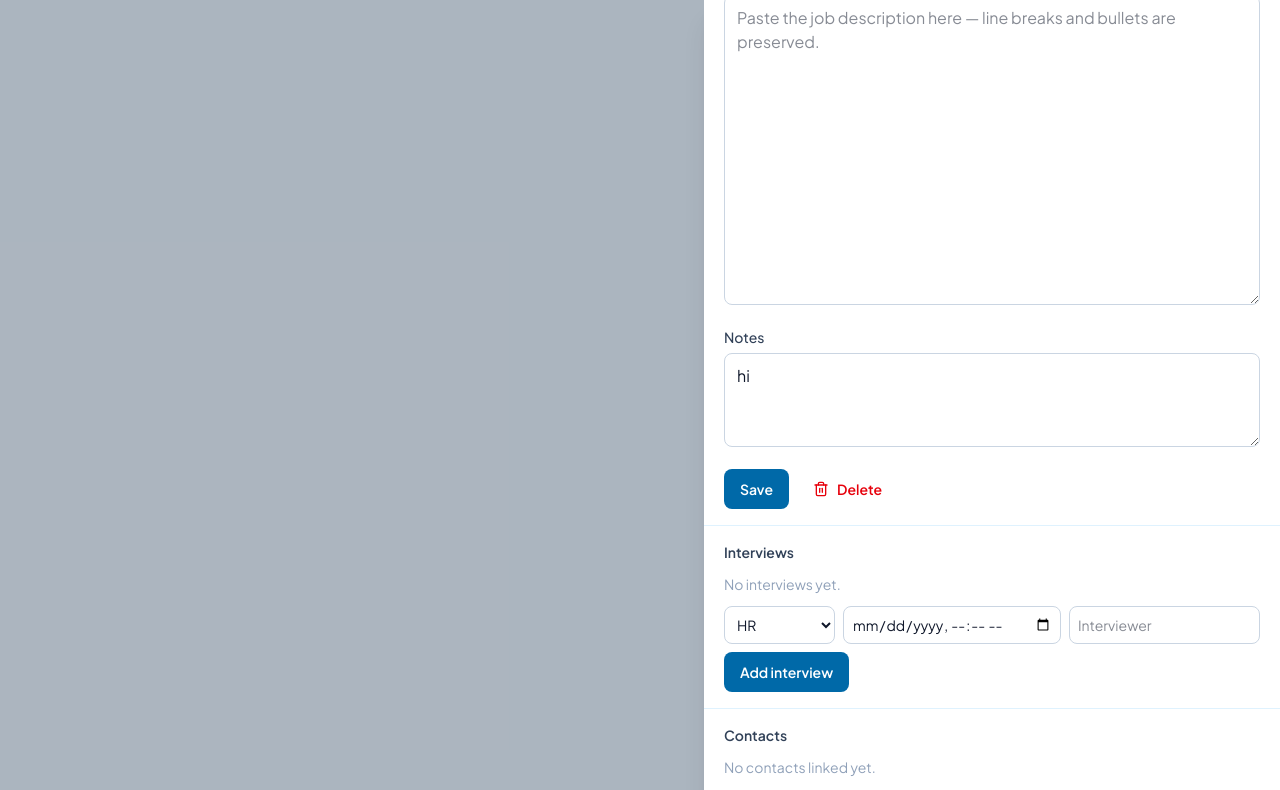
Test: shows the specific field error when the API returns validation details
(page scrolled)
Replace the text in the text box labelled "Notes" with "x": (992, 400) [724, 353, 1260, 447]
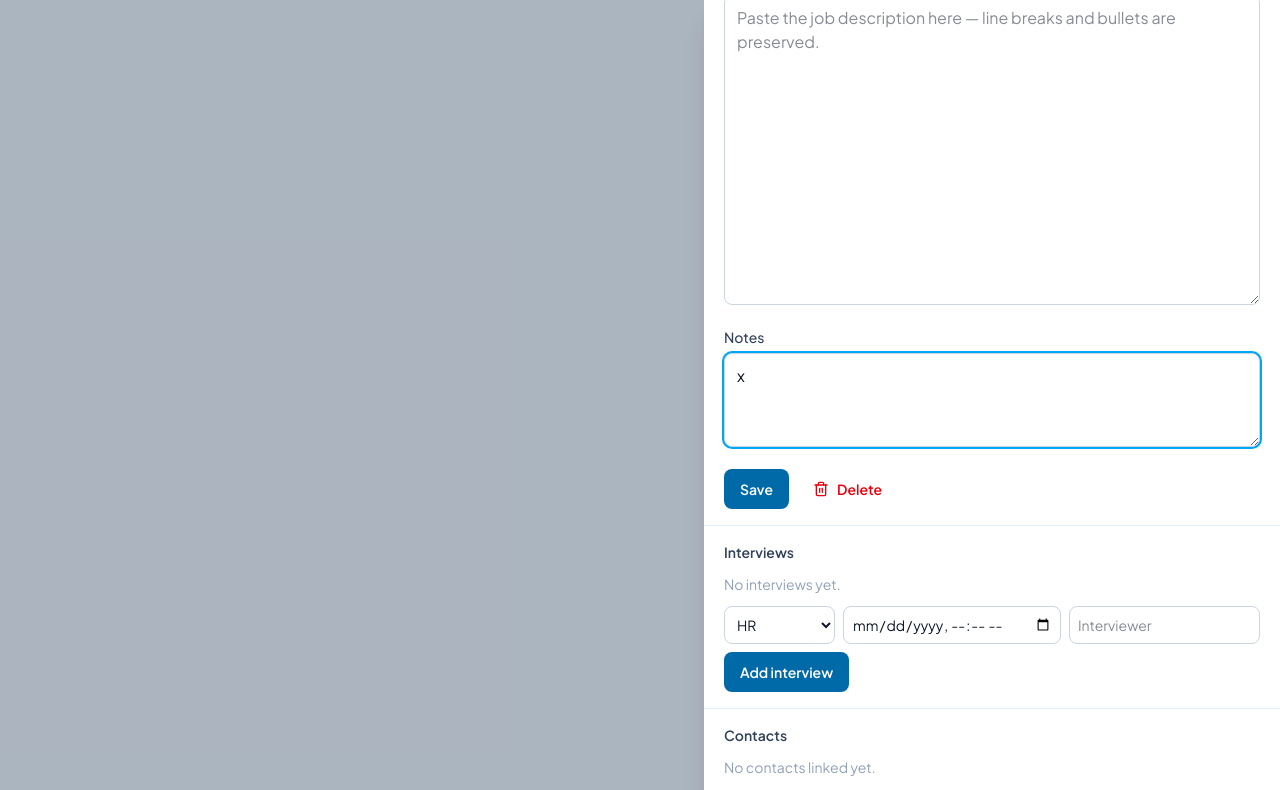
Click the button "Save": click(756, 489) [724, 469, 789, 509]
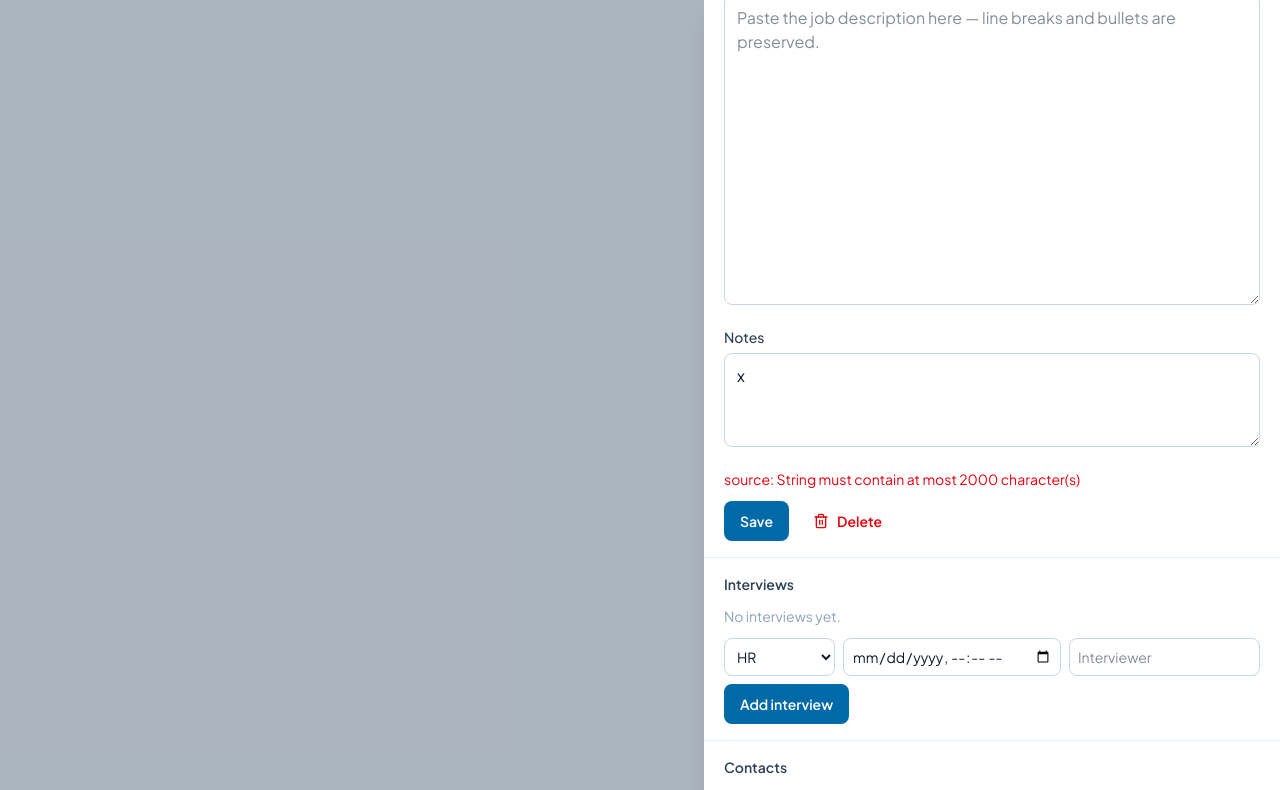
Check: the message shows "source:", box [724, 470, 1080, 488]
